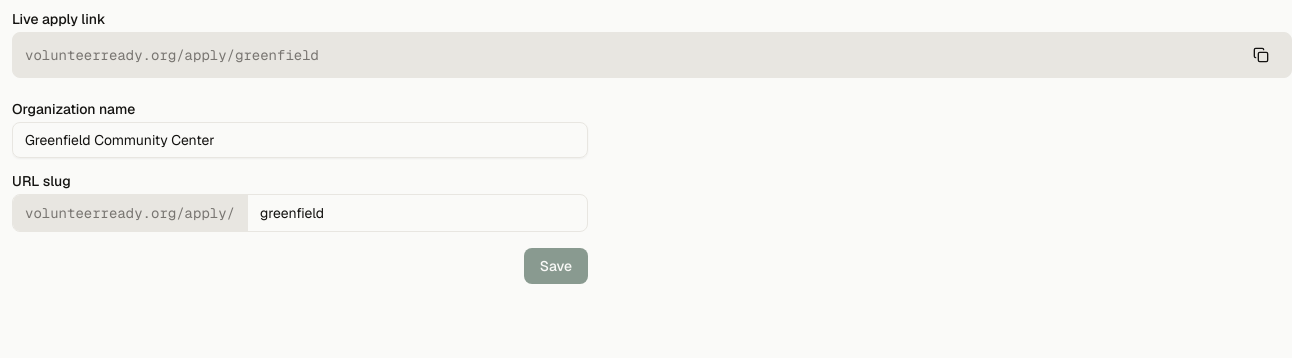
Test: OrgProfileForm › shows a retryable banner on server/network errors, preserving values
Type " II" into the field labelled "Organization name" at x=300, y=140, box [12,122,588,158]
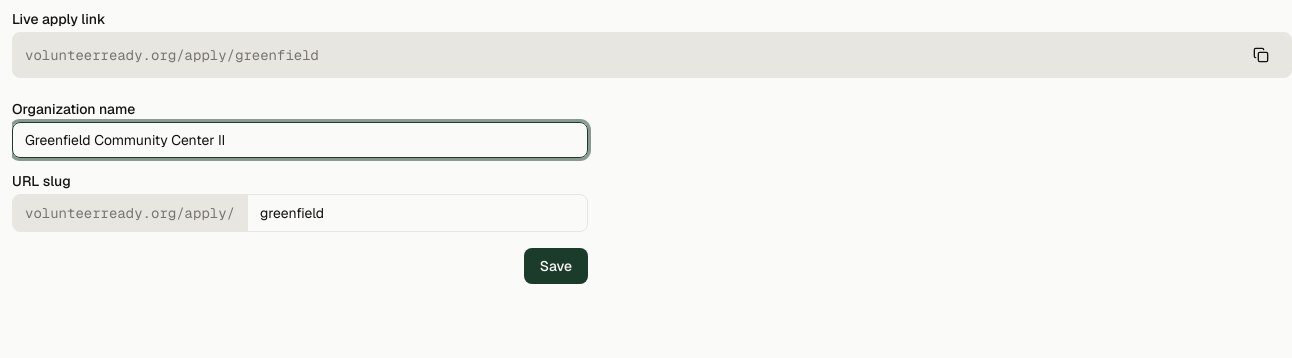
Click the button "Save" at x=556, y=266, box [524,248,588,284]
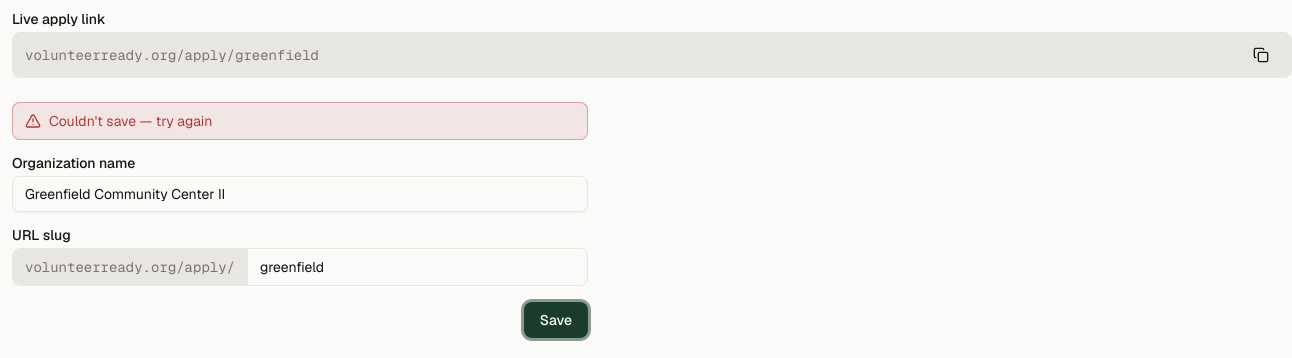
Expected: the field labelled "Organization name" holds "Greenfield Community Center II", [12,176,588,212]
Expected: the message reads "Couldn't save — try again", [49,112,212,130]
